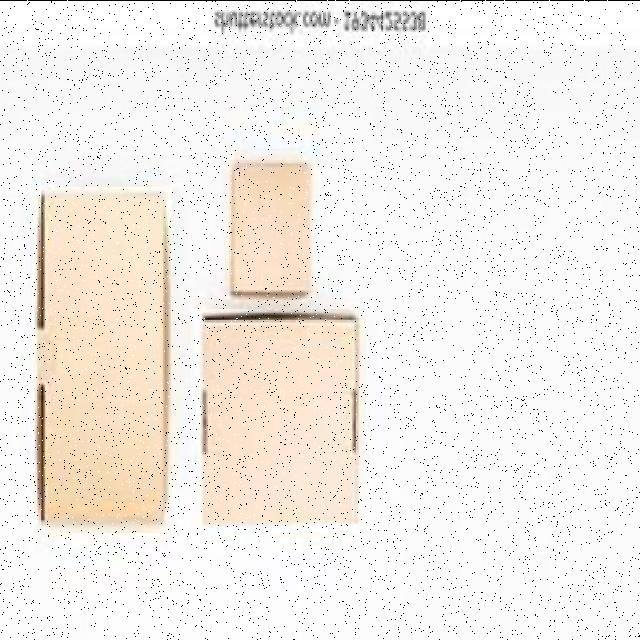normal: (34, 186, 172, 532), (191, 308, 366, 528), (230, 155, 318, 297)
